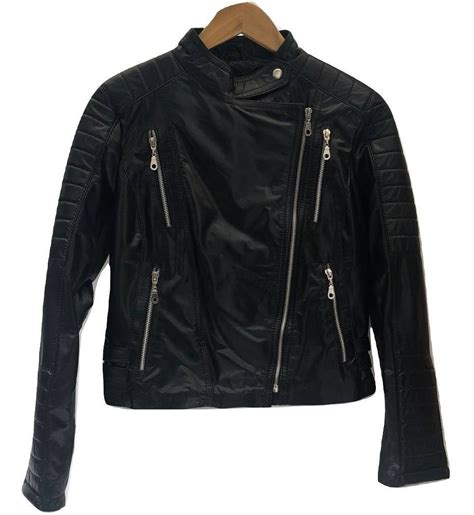cuero: (22, 23, 452, 512)
